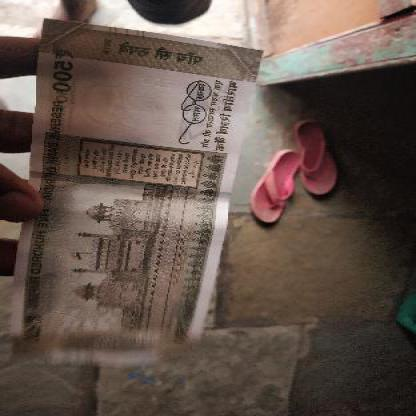New500Back: (17, 35, 252, 358)
